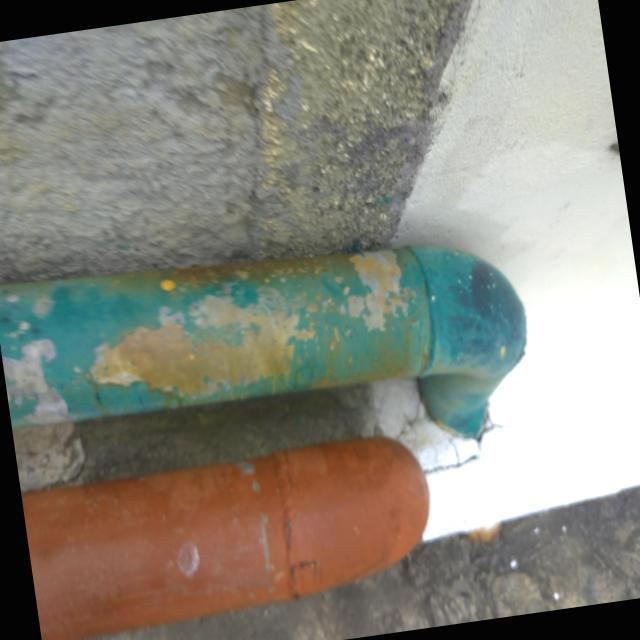gas: (0, 247, 523, 433), (28, 437, 432, 638)
